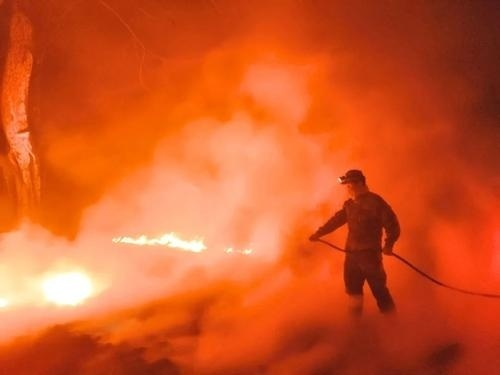fire: (112, 226, 256, 256)
